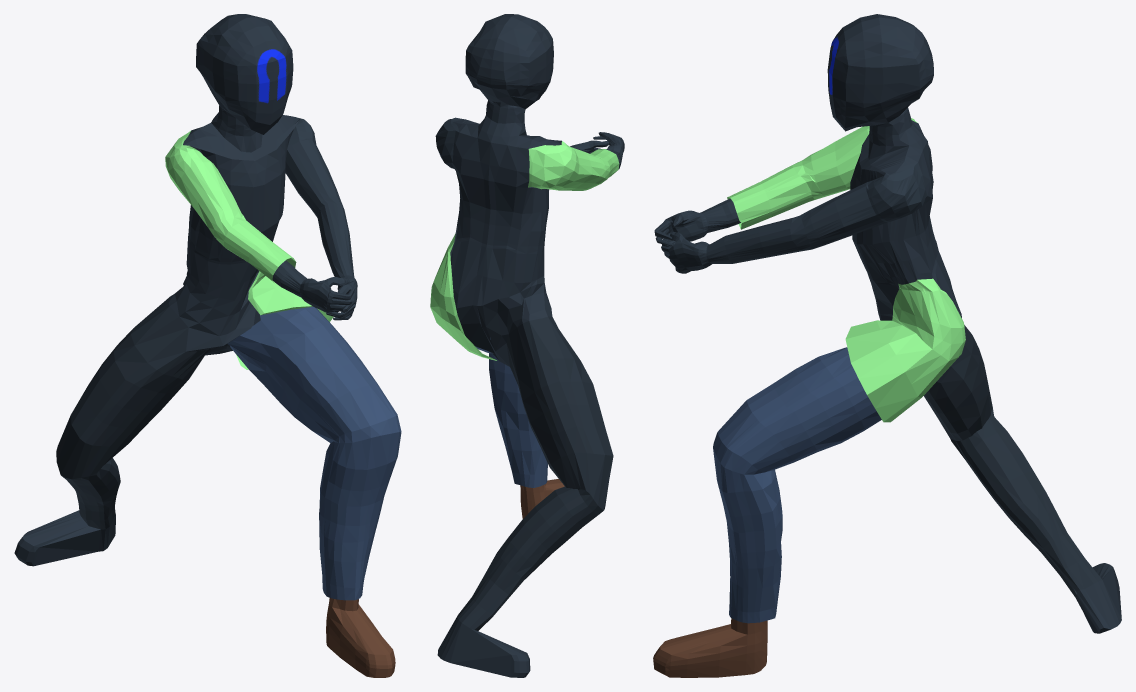
Rendered from Mar_Attack_000027.obj.
3 renders of one model, left to right at view 1: azimuth 30°, elevation 25°; view 2: azimuth 150°, elevation 25°; view 3: azimuth 270°, elevation 25°, orthographic. The views are drawn at different scales.
Parts seen in each view (by area): view 1: Cube.000_Cube.001; view 2: Cube.000_Cube.001; view 3: Cube.000_Cube.001.
Boxes of the visible parts, x1,y1,x2,y2 form: Cube.000_Cube.001: [14, 14, 401, 677]; Cube.000_Cube.001: [430, 14, 624, 677]; Cube.000_Cube.001: [653, 14, 1121, 677].
Bounding box in the file's own units: 1.33 × 3.36 × 2.24.
